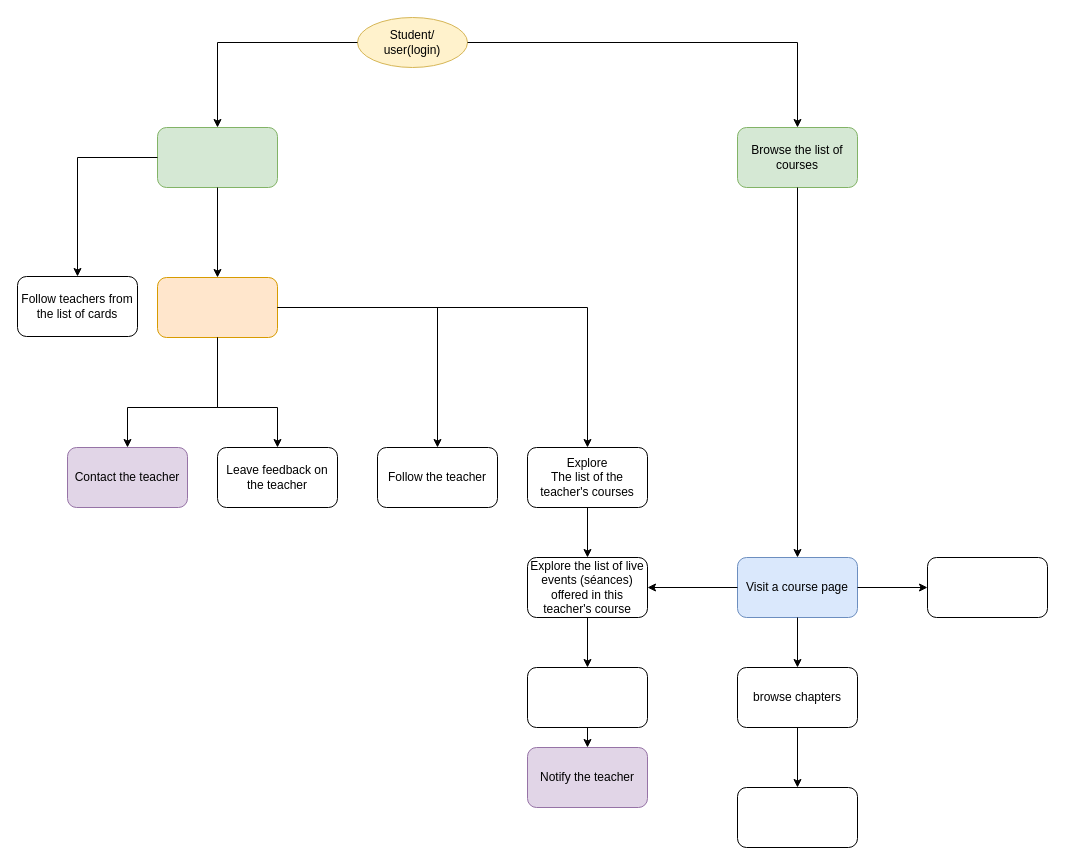
This 1065x865 diagram has some shape labels left out. The shapes that lost their labels are listed below. From the top down, each one's box as (x1, y1, x2, y2) in pixels, then its label:
(156, 126, 278, 188): Browse the list of teachers
(156, 276, 278, 338): Visit a teacher's profile
(926, 556, 1048, 618): Save the course
(526, 666, 648, 728): Reserve a place
(736, 786, 858, 848): Browse the chapter's documents
